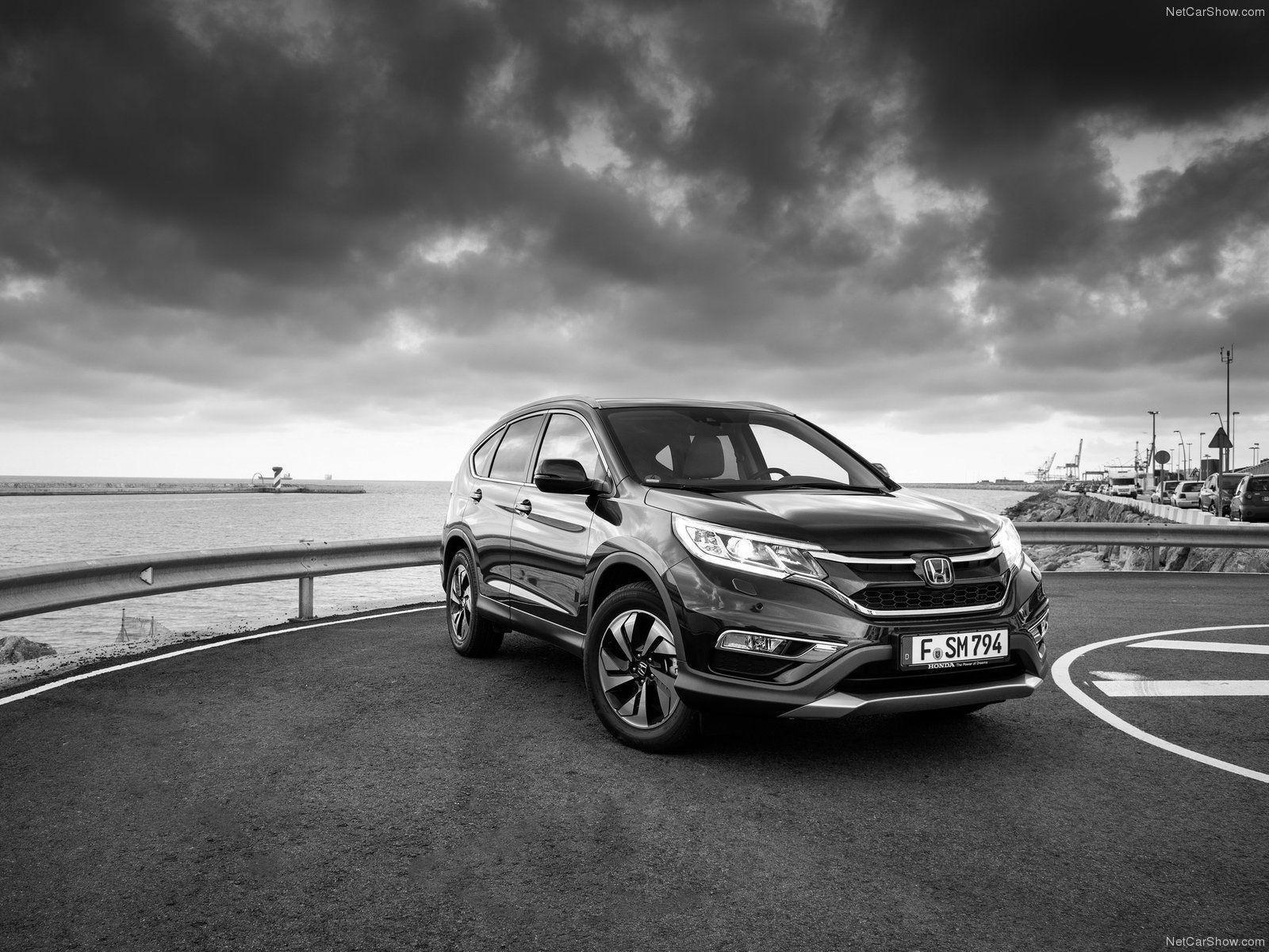Car hood: (643, 483, 1008, 556)
Driver-s door - -F-R-: (514, 404, 595, 637)
Fender - -F-R-: (581, 469, 691, 647)
Front bumper: (663, 574, 1070, 726)
Headlight - -L-: (984, 513, 1032, 577)
Headlight - -R-: (666, 509, 835, 587)
Passenger-s door - -R-R-: (462, 405, 529, 620)
Rear bumper: (429, 524, 455, 600), (441, 487, 468, 542)
Side bumper - -R-: (465, 586, 598, 659)
